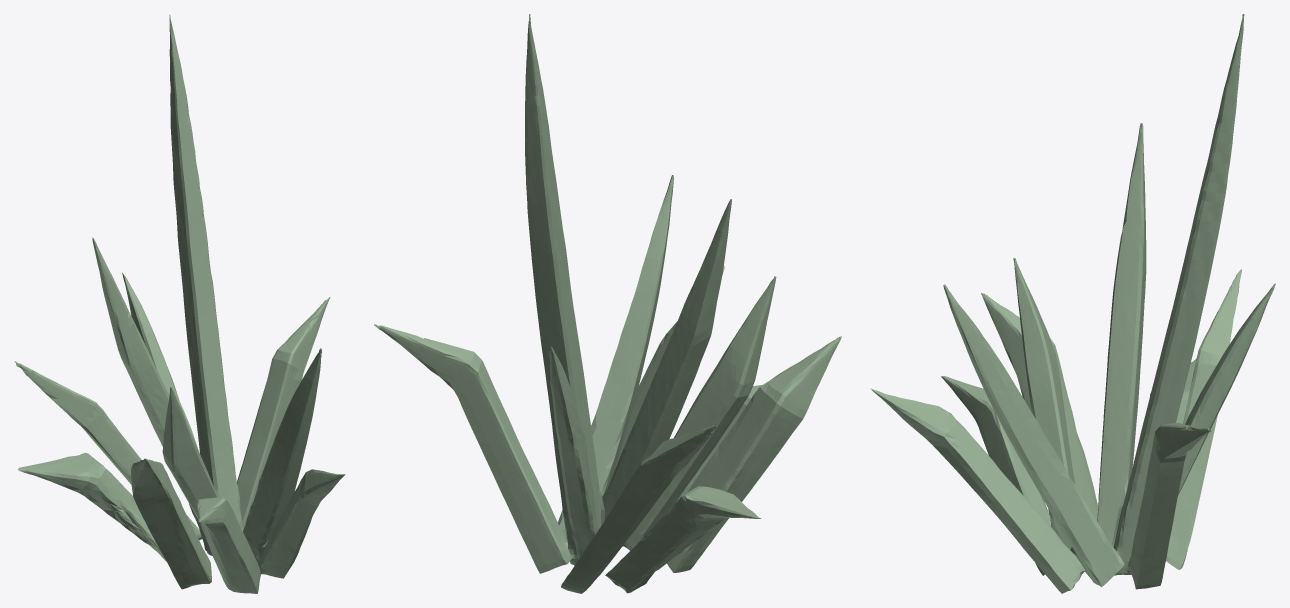
File: СУКА.fbx
The picture shows the model from 3 angles, left to right: view 1: azimuth 30°, elevation 25°; view 2: azimuth 150°, elevation 25°; view 3: azimuth 270°, elevation 25°; orthographic projection. The views are drawn at different scales.
Parts seen in each view (by area): view 1: трава; view 2: трава; view 3: трава.
Part boxes in pixels (left/top/right/bottom): трава: left=14, top=14, right=345, bottom=593; трава: left=374, top=14, right=841, bottom=593; трава: left=870, top=14, right=1275, bottom=593.
Bounding box in the file's own units: 13.53 × 20.78 × 13.54.
